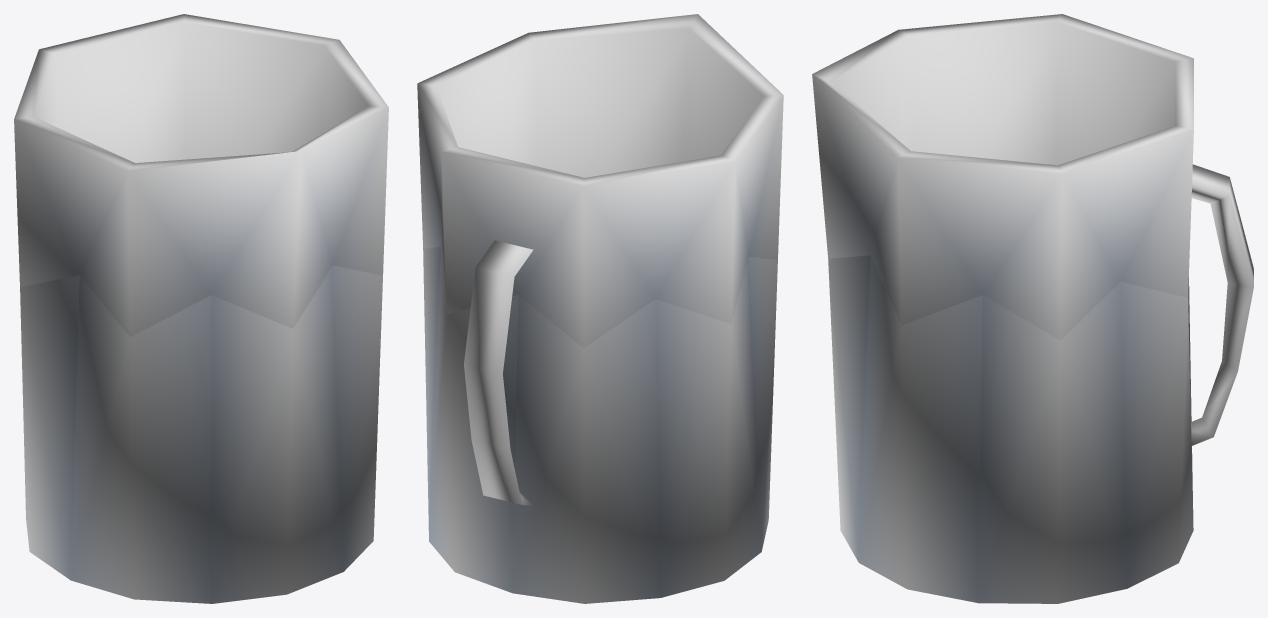
The model's file is FBX_Lemonade.fbx.
The picture shows the model from 3 angles, left to right: view 1: azimuth 30°, elevation 25°; view 2: azimuth 150°, elevation 25°; view 3: azimuth 270°, elevation 25°; orthographic projection. The views are drawn at different scales.
Visible parts, largest first — view 1: Pitcher; view 2: Pitcher; view 3: Pitcher.
Boxes of the visible parts, <box> form: Pitcher: <box>14,14,388,603</box>; Pitcher: <box>417,14,783,603</box>; Pitcher: <box>812,14,1253,603</box>.
Bounding box in the file's own units: 0.1688 × 0.2249 × 0.1973.
